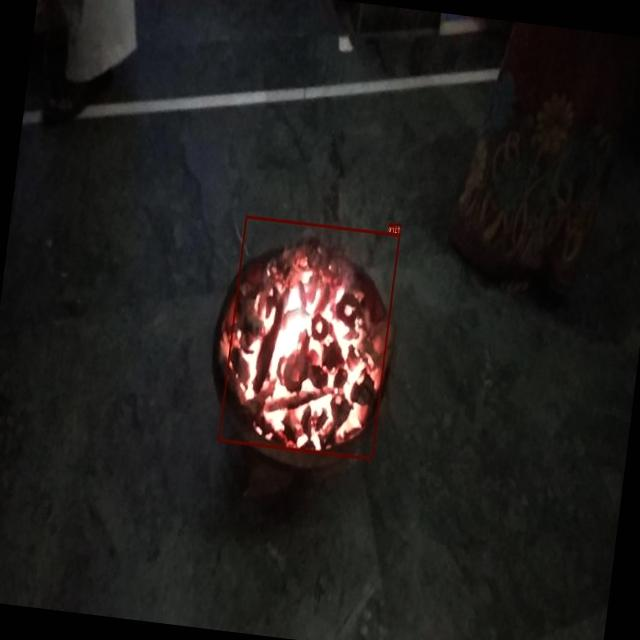fire: (218, 215, 400, 460)
